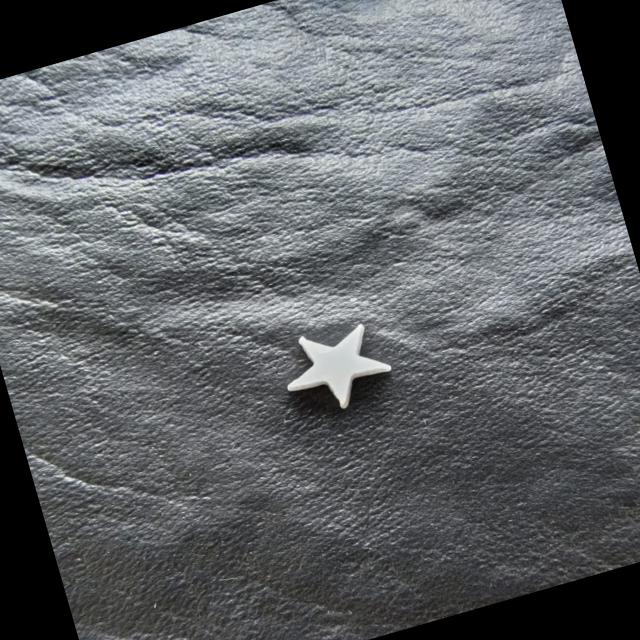estrellas: (288, 326, 388, 406)
